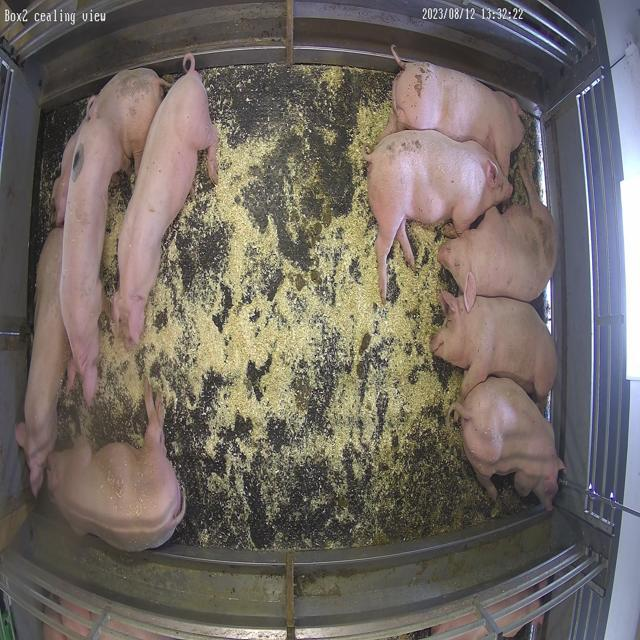Dirt: (356, 388, 495, 546)
Pig: (113, 53, 218, 344), (366, 130, 513, 300), (47, 381, 185, 552), (60, 118, 125, 404), (53, 67, 167, 226), (432, 273, 558, 408), (393, 51, 525, 176), (439, 164, 556, 302), (456, 378, 566, 512), (15, 227, 68, 496)
